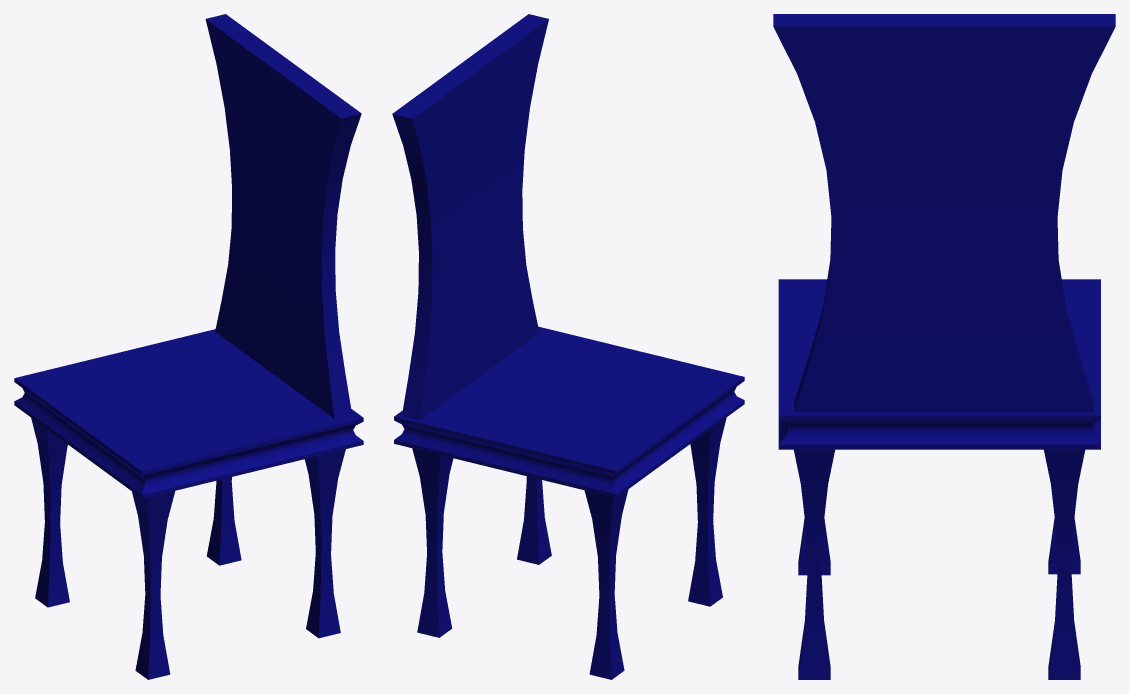
Rendered from Silla.FBX.
3 views of the same model, side by side, from view 1: azimuth 30°, elevation 25°; view 2: azimuth 150°, elevation 25°; view 3: azimuth 270°, elevation 25° (orthographic). The views are drawn at different scales.
Visible parts, largest first — view 1: Box050, Box049, Box053, Box054, Box051, Box052; view 2: Box050, Box049, Box051, Box052, Box053, Box054; view 3: Box050, Box049, Box054, Box052, Box053, Box051.
Boxes of the visible parts, x1,y1,x2,y2 form: Box050: [205, 14, 361, 418]; Box049: [14, 329, 363, 498]; Box053: [132, 491, 175, 679]; Box054: [305, 449, 345, 638]; Box051: [31, 418, 69, 607]; Box052: [207, 477, 241, 565]; Box050: [392, 14, 548, 420]; Box049: [394, 326, 744, 497]; Box051: [584, 489, 628, 679]; Box052: [412, 448, 453, 637]; Box053: [688, 417, 726, 606]; Box054: [517, 476, 551, 564]; Box050: [773, 14, 1115, 412]; Box049: [778, 279, 1100, 449]; Box054: [794, 449, 834, 679]; Box052: [1044, 449, 1085, 679]; Box053: [798, 518, 830, 575]; Box051: [1048, 517, 1080, 574].
Bounding box in the file's own units: 0.6 × 1.36 × 0.638.
